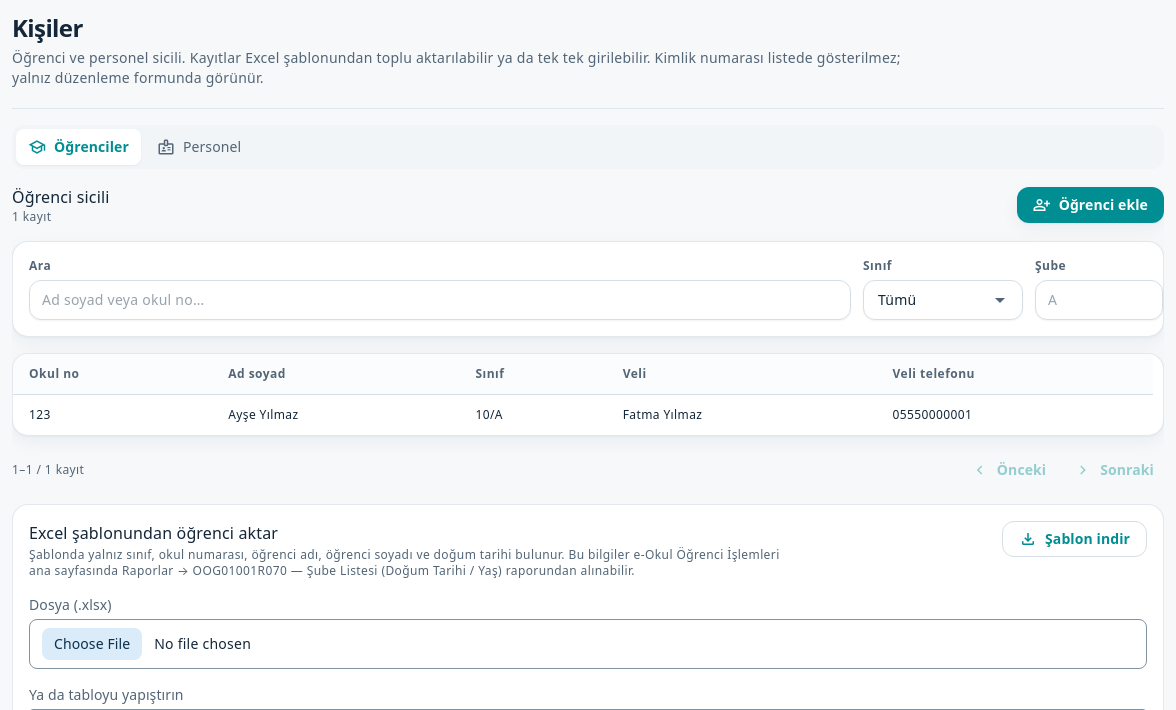
Test: KisilerPage — personel sekmesi › sekmeye geçince personel listesi yüklenir
Expected: the text "Ayşe Yılmaz" is shown, [212,394,459,435]
Click the tab "Personel".
click(199, 147)  # box [145,129,253,165]
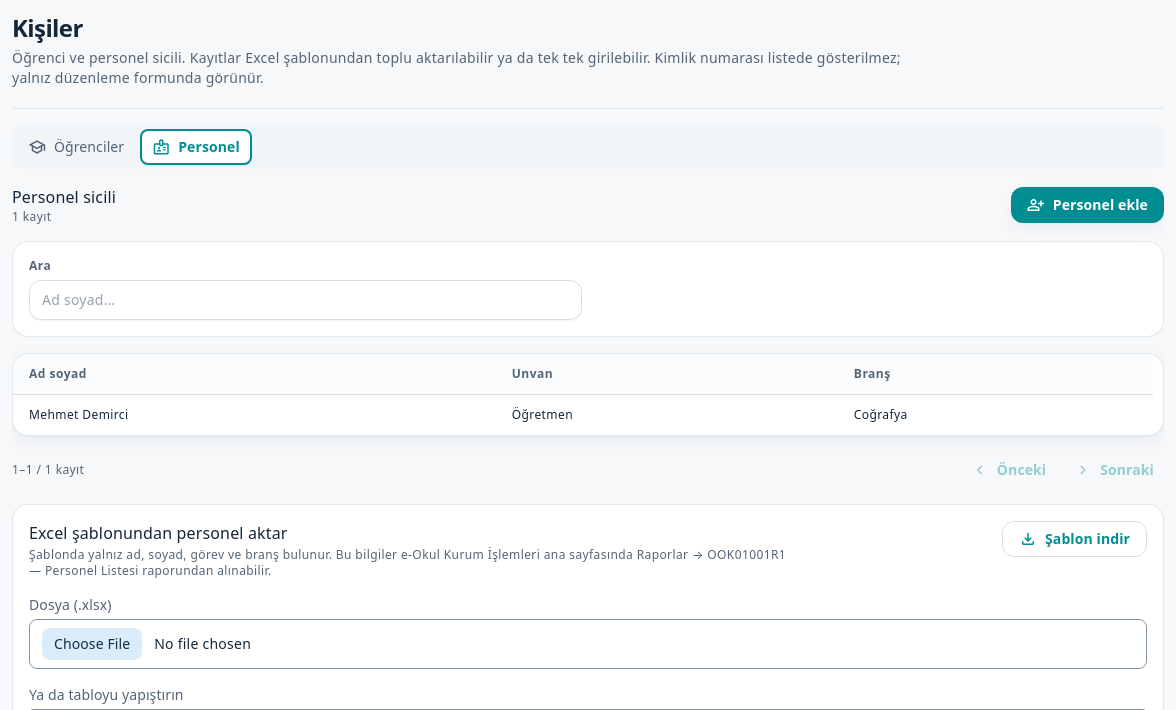
Expected: the text "Mehmet Demirci" is shown, [13,394,496,435]
Expected: the text "Coğrafya" is shown, [838,394,1153,435]
